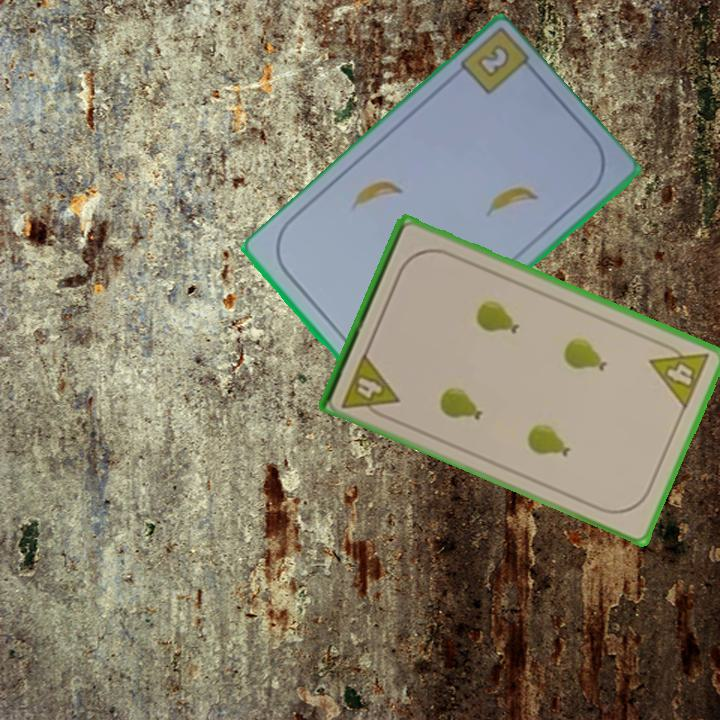2b: (477, 44, 510, 78)
4p: (646, 336, 713, 412), (338, 349, 402, 423)
